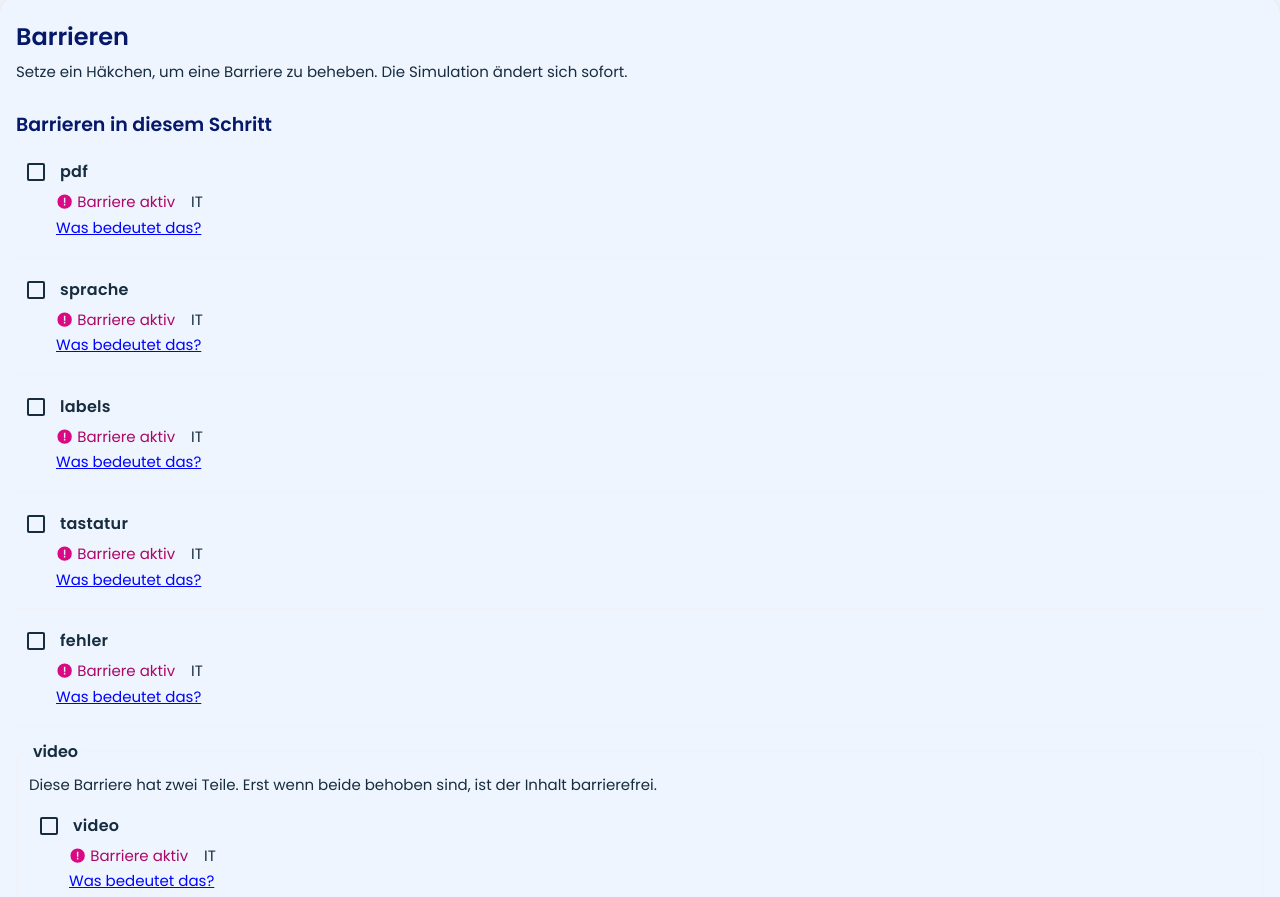
Test case: BarrierPanelComponent (docs/SPEC_v1.md Slice 5) › combined barriers (docs/PRD.md §6.4) › toggles every part together when the parent is used
Step 1. Click the checkbox labelled "video" → (94, 821), box [69, 806, 119, 837]
(page scrolled)
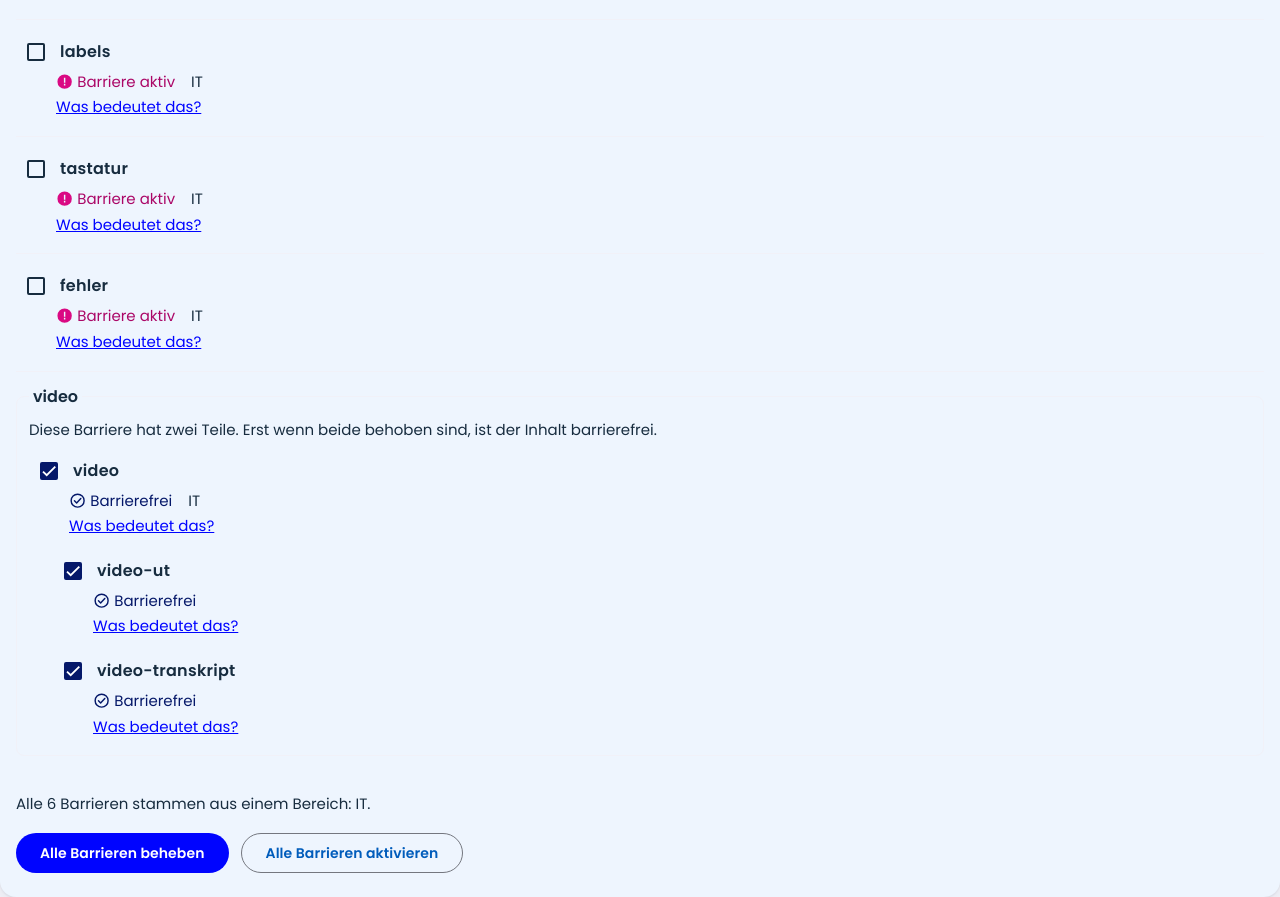
expect the checkbox labelled "video-ut" is checked: met, box [93, 551, 170, 582]
expect the checkbox labelled "video-transkript" is checked: met, box [93, 651, 236, 683]
